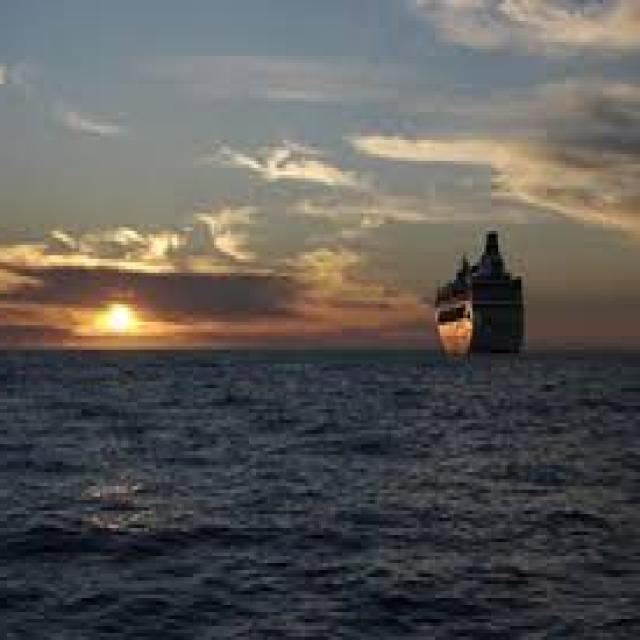passenger ship: (418, 208, 534, 356)
